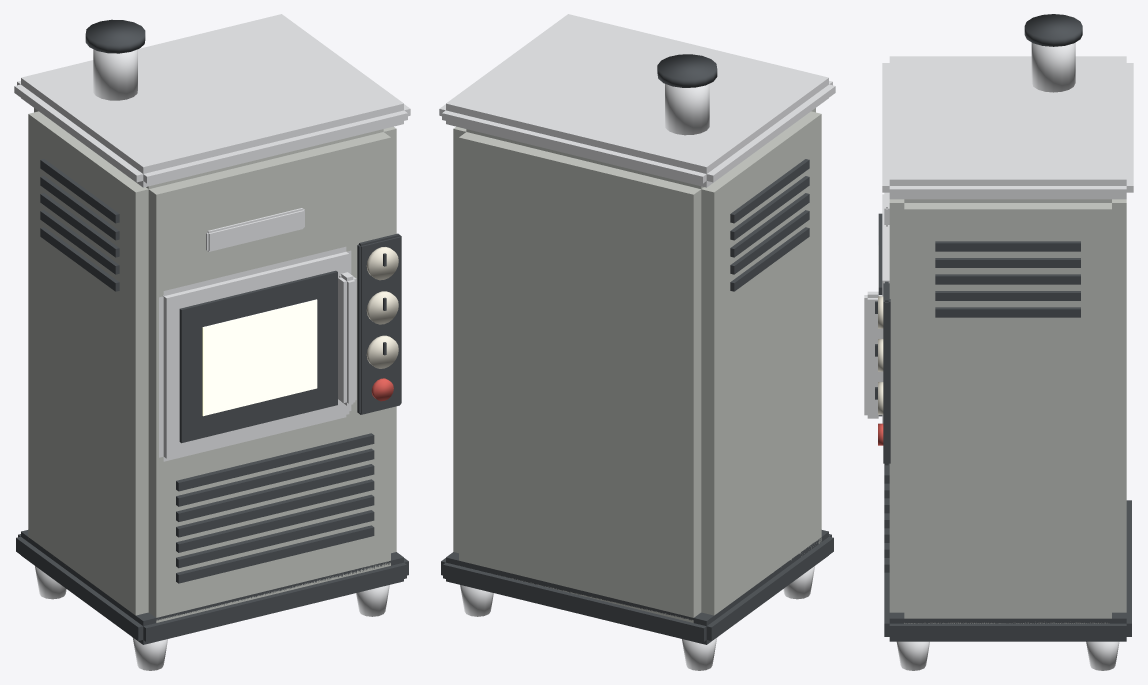
Rendered from giant_oven.glb.
3 views of the same model, side by side, from view 1: azimuth 30°, elevation 25°; view 2: azimuth 150°, elevation 25°; view 3: azimuth 270°, elevation 25° (orthographic). The views are drawn at different scales.
Parts seen in each view (by area): view 1: Cabinet, TopCap, DoorGlass, DoorGlow, DoorFrame, Base, Panel, DoorHandle, Vent0, Vent1, Vent3, Vent5 (+17 smaller); view 2: Cabinet, TopCap, Base, Exhaust, ExhaustCap, Side-1_1, Side-1_2, Side-1_4, Side-1_0, Side-1_3, Foot-11, Foot11 (+1 smaller); view 3: Cabinet, TopCap, Base, Exhaust, DoorHandle, ExhaustCap, Side1_0, Side1_2, Side1_4, Side1_1, Side1_3, Panel (+4 smaller).
Boxes of the visible parts, <box> form: Cabinet: <box>28,108,396,622</box>; TopCap: <box>14,14,410,187</box>; DoorGlass: <box>179,270,337,443</box>; DoorGlow: <box>202,299,317,416</box>; DoorFrame: <box>159,246,351,461</box>; Base: <box>16,530,408,644</box>; Panel: <box>357,233,401,414</box>; DoorHandle: <box>338,272,356,405</box>; Vent0: <box>176,525,374,583</box>; Vent1: <box>176,510,374,568</box>; Vent3: <box>176,479,374,537</box>; Vent5: <box>176,448,374,506</box>; Cabinet: <box>453,108,821,622</box>; TopCap: <box>439,14,835,187</box>; Base: <box>441,530,833,644</box>; Exhaust: <box>665,83,709,135</box>; ExhaustCap: <box>657,54,717,87</box>; Side-1_1: <box>730,210,809,274</box>; Side-1_2: <box>730,193,809,257</box>; Side-1_4: <box>730,159,809,223</box>; Side-1_0: <box>730,227,809,291</box>; Side-1_3: <box>730,176,809,240</box>; Foot-11: <box>682,637,717,670</box>; Foot11: <box>460,585,493,616</box>; Cabinet: <box>889,199,1126,623</box>; TopCap: <box>882,56,1133,199</box>; Base: <box>884,500,1131,641</box>; Exhaust: <box>1031,42,1075,92</box>; DoorHandle: <box>864,291,882,418</box>; ExhaustCap: <box>1024,14,1082,46</box>; Side1_0: <box>935,307,1080,317</box>; Side1_2: <box>935,274,1080,284</box>; Side1_4: <box>935,241,1080,251</box>; Side1_1: <box>935,291,1080,300</box>; Side1_3: <box>935,258,1080,267</box>; Panel: <box>883,281,890,465</box>.
Size of the model in its own units: 1.68 by 3.35 by 1.48.
